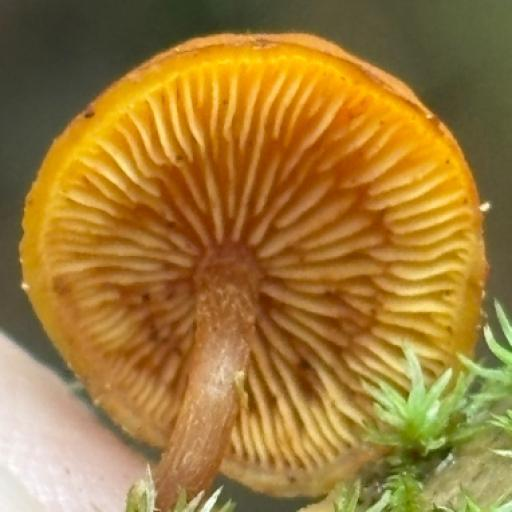mushroom: (14, 22, 493, 502)
